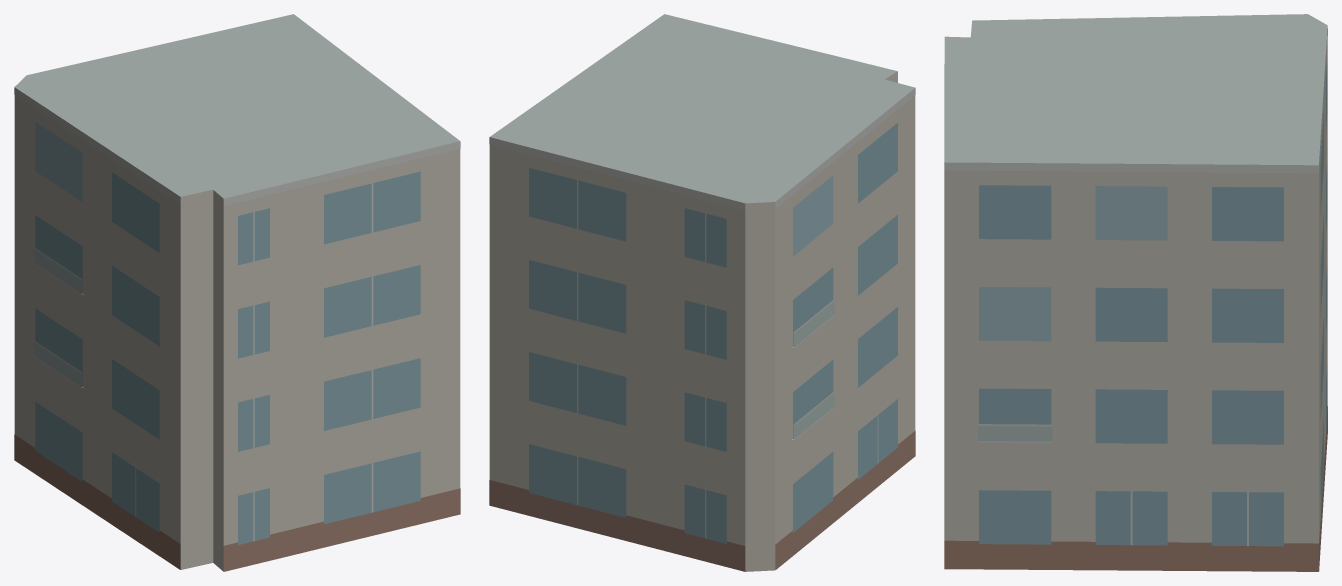
File: survey-upis-32666330.glb
The picture shows the model from 3 angles, left to right: view 1: azimuth 30°, elevation 25°; view 2: azimuth 150°, elevation 25°; view 3: azimuth 270°, elevation 25°; orthographic projection. The views are drawn at different scales.
Parts seen in each view (by area): view 1: survey-upis-32666330.tmp; view 2: survey-upis-32666330.tmp; view 3: survey-upis-32666330.tmp.
Boxes of the visible parts, bbox=[...] form: survey-upis-32666330.tmp: bbox=[14, 14, 460, 571]; survey-upis-32666330.tmp: bbox=[489, 14, 915, 571]; survey-upis-32666330.tmp: bbox=[944, 14, 1327, 571].
Bounding box in the file's own units: 9.82 × 12.3 × 10.53.
